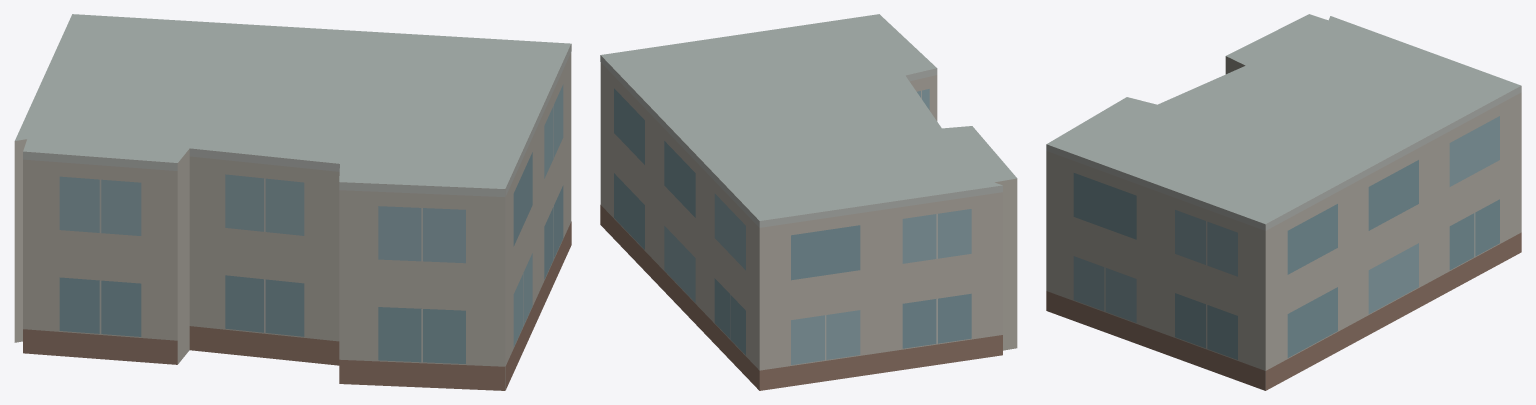
The model's file is survey-upis-32605863.glb.
3 views of the same model, side by side, from view 1: azimuth 30°, elevation 25°; view 2: azimuth 150°, elevation 25°; view 3: azimuth 270°, elevation 25° (orthographic). The views are drawn at different scales.
Parts seen in each view (by area): view 1: survey-upis-32605863.tmp; view 2: survey-upis-32605863.tmp; view 3: survey-upis-32605863.tmp.
Boxes of the visible parts, x1,y1,x2,y2 form: survey-upis-32605863.tmp: (14,14,571,390); survey-upis-32605863.tmp: (600,14,1017,390); survey-upis-32605863.tmp: (1046,14,1521,390).
Size of the model in its own units: 16.52 by 6.1 by 15.77.
